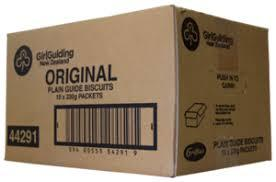Cardboard: (4, 0, 276, 182)
